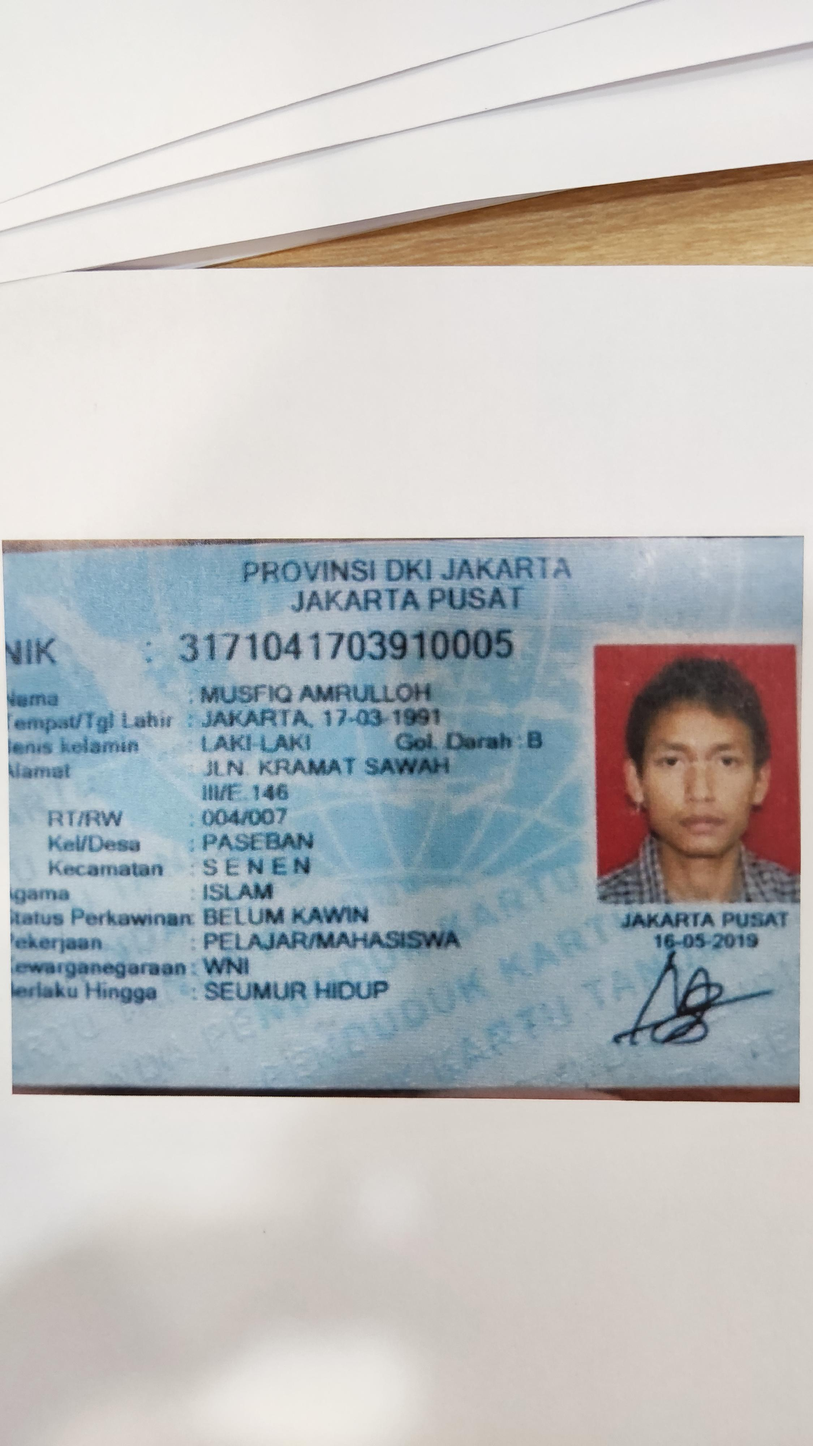ID-card: (3, 538, 798, 1081)
